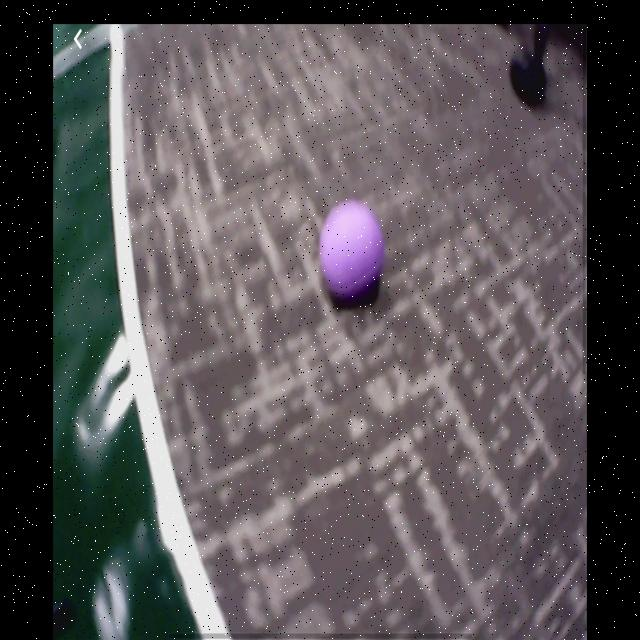ball: (319, 198, 386, 309)
